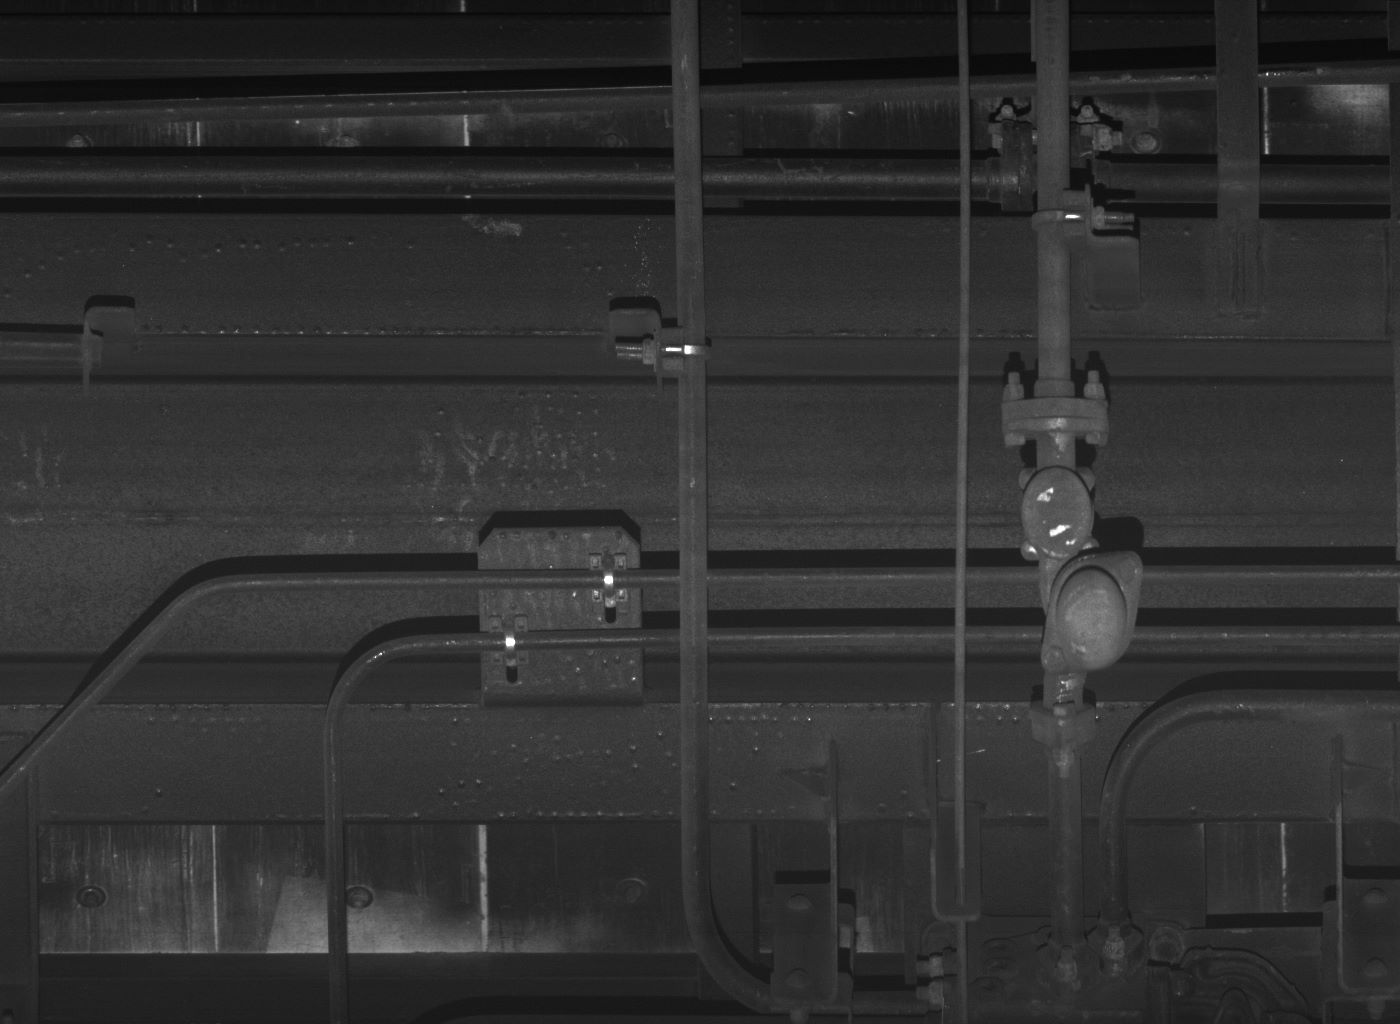normal: (1213, 1, 1260, 316), (1017, 463, 1100, 561)
